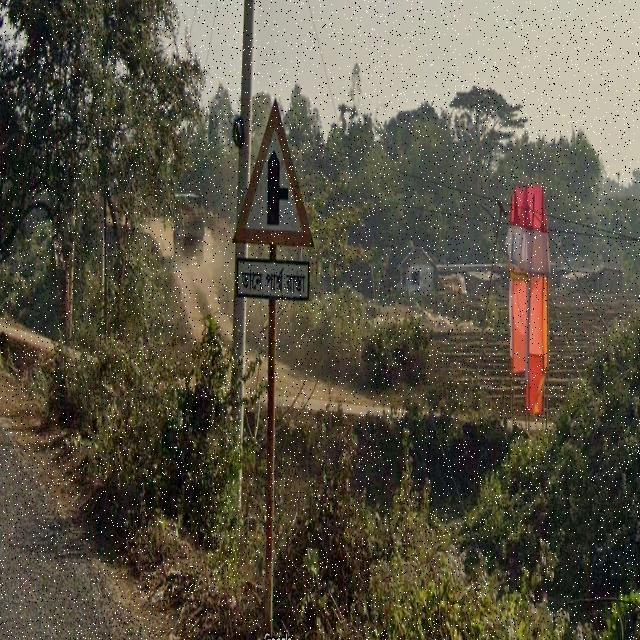Side-road-right: (233, 99, 315, 302)
